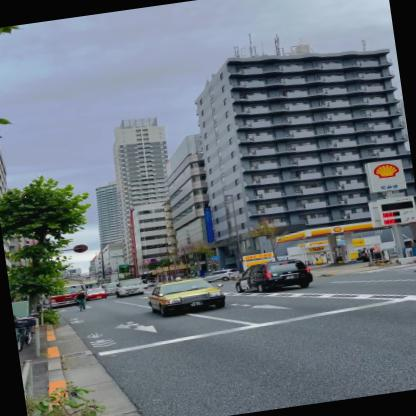car: (142, 273, 226, 319), (232, 256, 313, 297), (84, 286, 106, 301)
truck: (114, 277, 144, 298)
